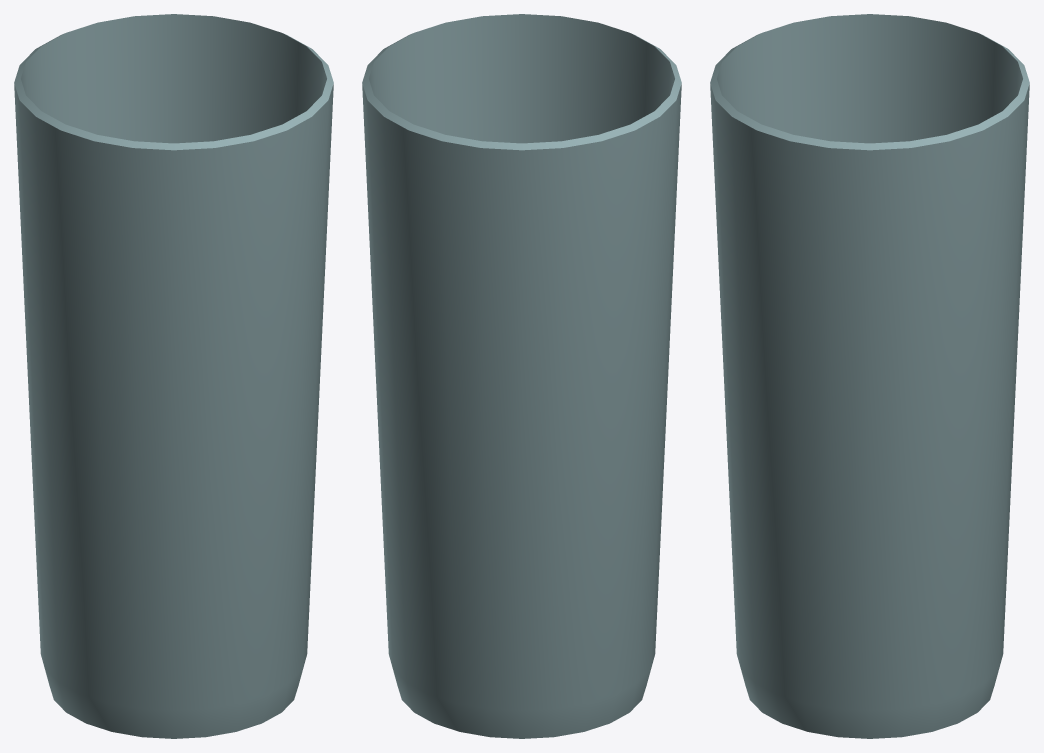
File: rest-glass-tall.glb
3 views of the same model, side by side, from view 1: azimuth 30°, elevation 25°; view 2: azimuth 150°, elevation 25°; view 3: azimuth 270°, elevation 25° (orthographic).
Visible parts, largest first — view 1: glass__glass; view 2: glass__glass; view 3: glass__glass.
Part boxes in pixels (x1,y1,x2,y2): glass__glass: (14, 14, 333, 738); glass__glass: (362, 14, 681, 738); glass__glass: (710, 14, 1029, 738).
Size of the model in its own units: 0.072 by 0.151 by 0.072.
